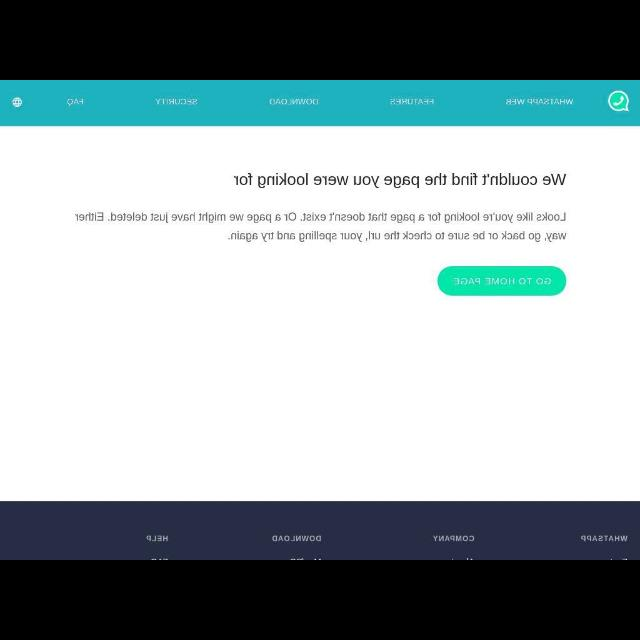icon: (12, 97, 24, 107)
image: (608, 90, 630, 114)
text: (72, 212, 568, 242), (232, 171, 568, 191), (453, 276, 552, 286), (506, 97, 574, 107), (270, 532, 324, 544), (577, 532, 627, 544), (432, 532, 476, 544), (154, 97, 200, 107), (270, 98, 320, 106), (390, 97, 436, 105), (66, 96, 86, 108), (142, 534, 172, 542)
textbutton: (437, 266, 567, 296)
toolbar: (1, 80, 640, 126)
